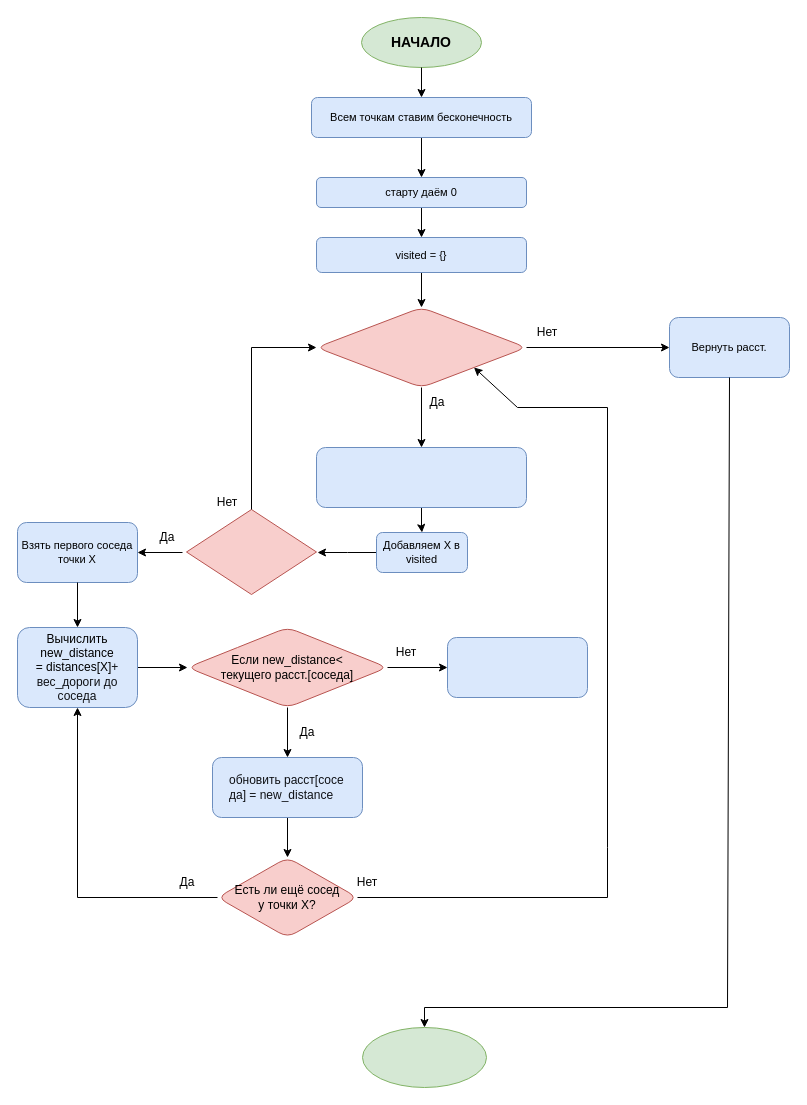
The diagram is 807 pixels wide and 1105 high, and some of its shapes have lost their labels. The centre of each missing label's shape, as x and y in pixels:
Есть ли не посещённые точки с конечным расст.?: (421,347)
КОНЕЦ: (424,1057)
Найти непосещённую точку с самым маленьким расст. пусть будет X: (421,477)
ничего не делать (расстояние не меняется): (517,667)
У точки X есть соседы?: (251,551)
